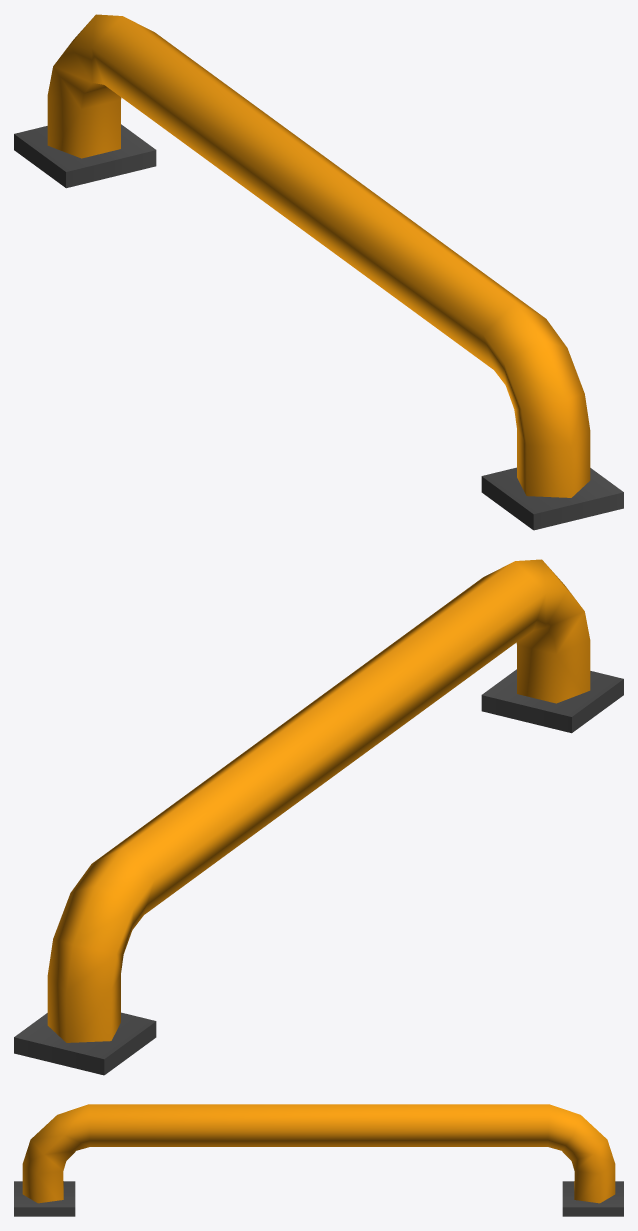
The model's file is Bollards_2_B.fbx.
3 views of the same model, one above another, from view 1: azimuth 30°, elevation 25°; view 2: azimuth 150°, elevation 25°; view 3: azimuth 270°, elevation 25° (orthographic). The views are drawn at different scales.
Parts seen in each view (by area): view 1: Bollards_2_B; view 2: Bollards_2_B; view 3: Bollards_2_B.
Boxes of the visible parts, x1,y1,x2,y2 form: Bollards_2_B: (14,14,623,530); Bollards_2_B: (14,559,623,1075); Bollards_2_B: (14,1104,623,1216).
Size of the model in its own units: 15.3 by 27.46 by 152.
